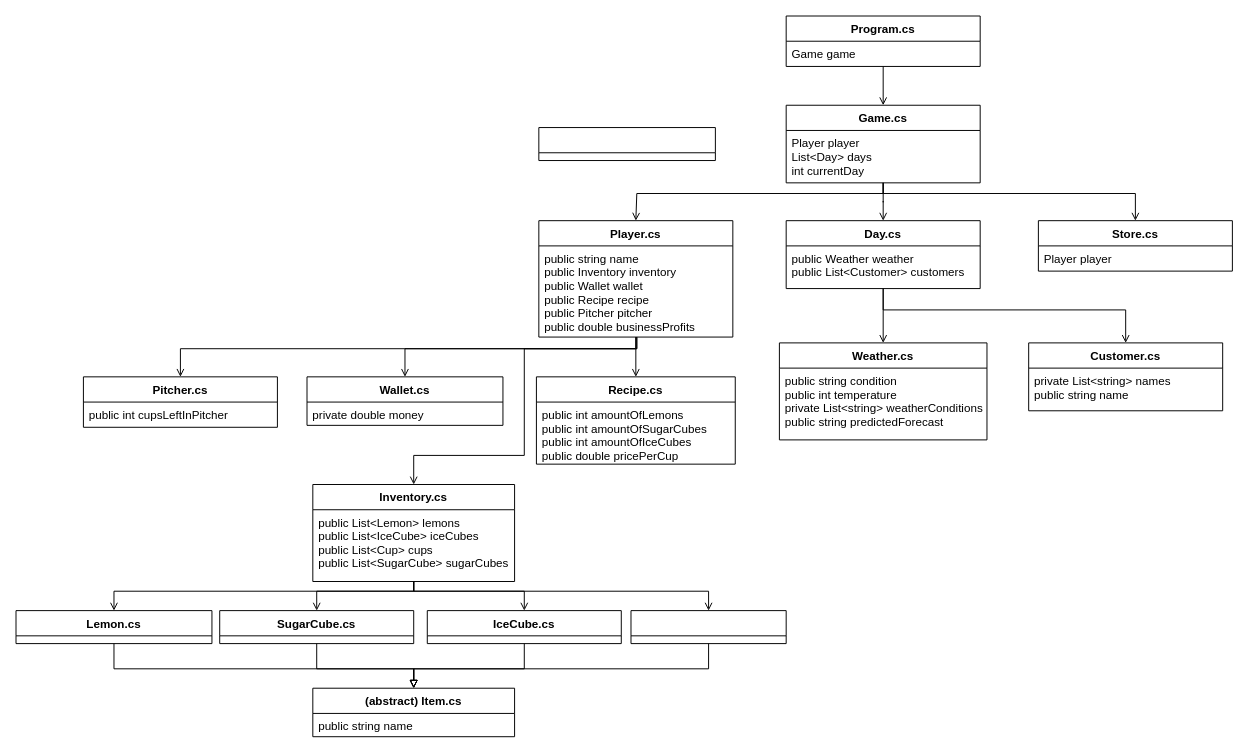
Some shapes in this 1248 by 753 pixel diagram are drawn without their labels. Each missing label, with the centre of its shape:
(static) UserInterface: pixel 626 144
Cup.cs: pixel 708 627
